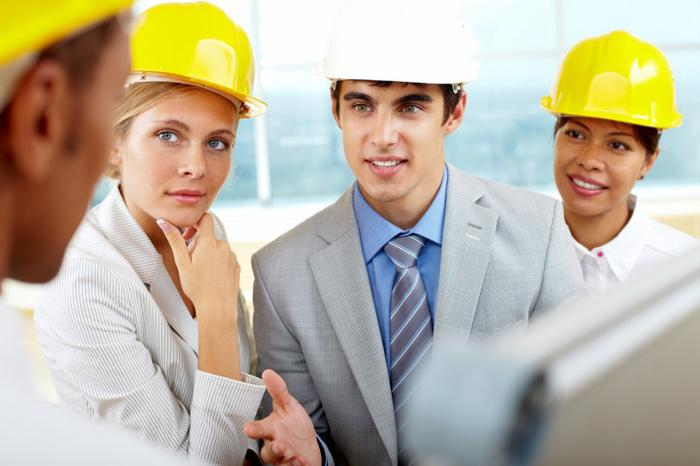helmet: (0, 0, 139, 290), (104, 0, 270, 231), (312, 0, 483, 205), (534, 24, 690, 225)
